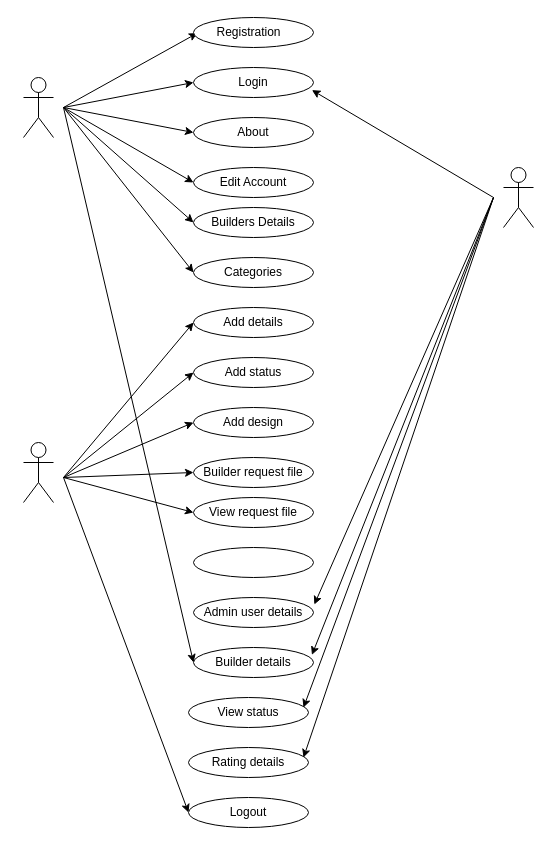
The diagram is 553 pixels wide and 845 high, and some of its shapes have lost their labels. Here are the shapes that lost their labels. From the top down, the box of each, then its label:
(22, 76, 54, 138): User
(502, 166, 534, 228): Admin
(22, 442, 54, 502): Builders
(192, 546, 314, 578): View user details
